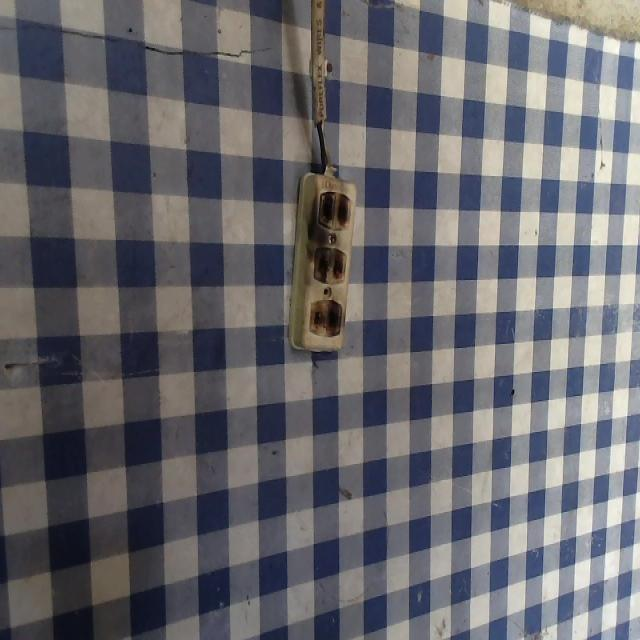-: (308, 176, 354, 232), (304, 282, 346, 342), (306, 240, 351, 289)
